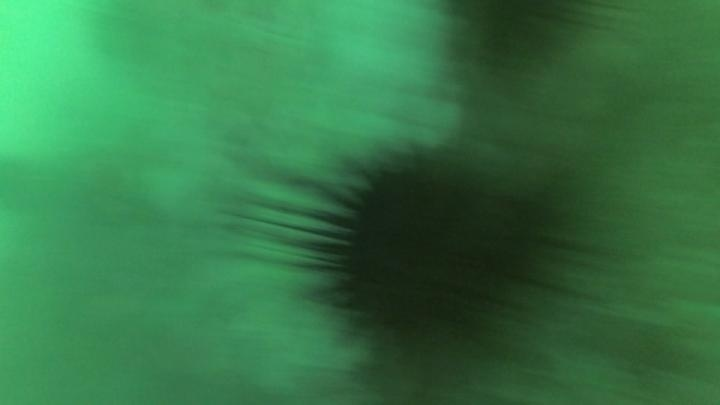echinus: (297, 145, 582, 370), (439, 1, 598, 81)
